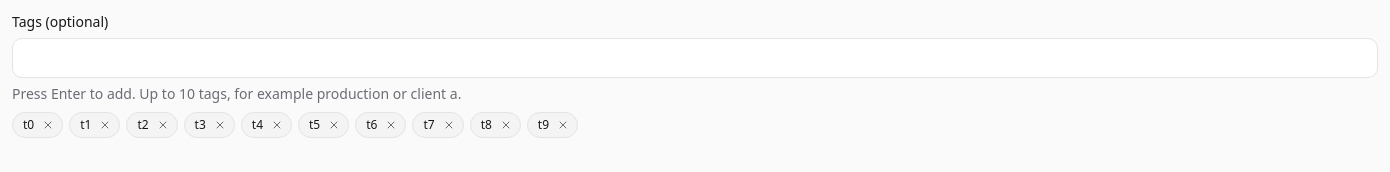
Test case: TagsInput › refuses an eleventh tag
Step 1. Type "one more" into the field labelled "Tags (optional)" → (695, 58), box left=12, top=38, right=1378, bottom=78
Then press Enter
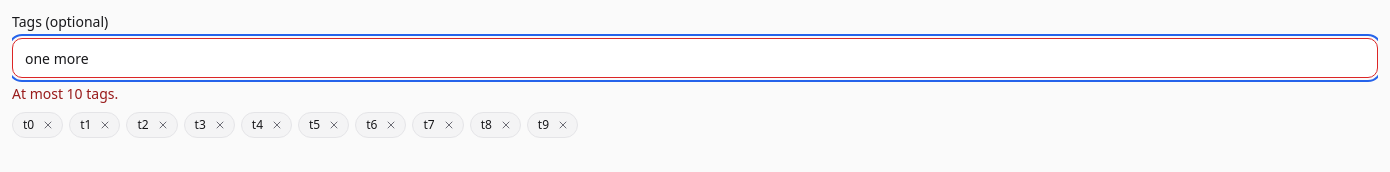
Check: the text "At most 10 tags." is shown, box left=12, top=84, right=118, bottom=103
